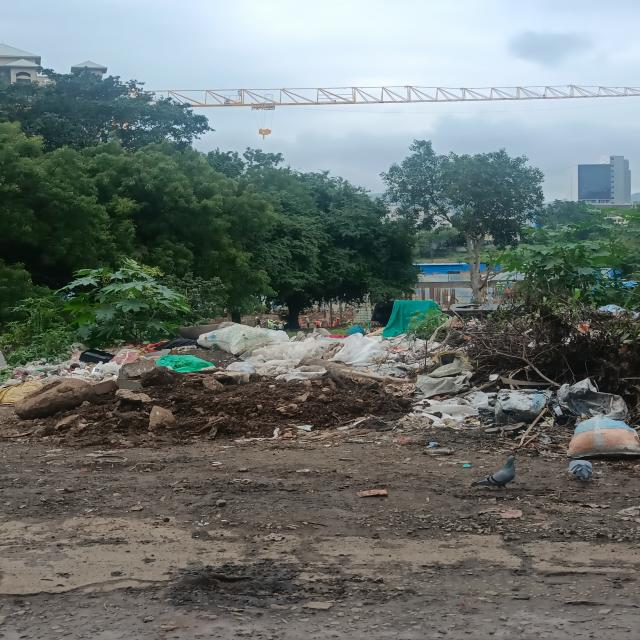garbage: (216, 325, 640, 442), (2, 346, 214, 425)
